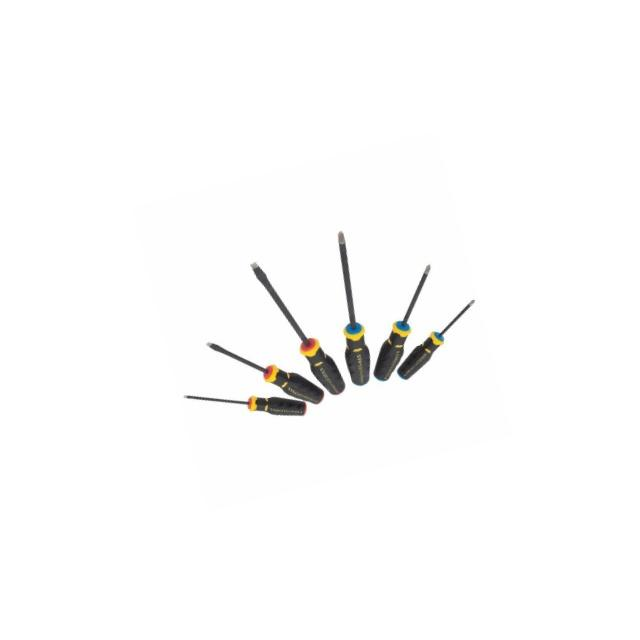screwdriver: (246, 245, 349, 410), (346, 254, 460, 386), (200, 314, 328, 431), (310, 224, 382, 390), (184, 362, 313, 442), (380, 298, 490, 386)
